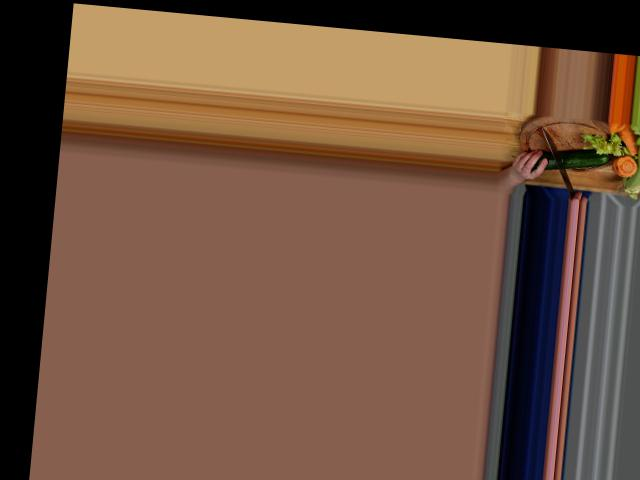cucumber: (532, 144, 611, 175)
